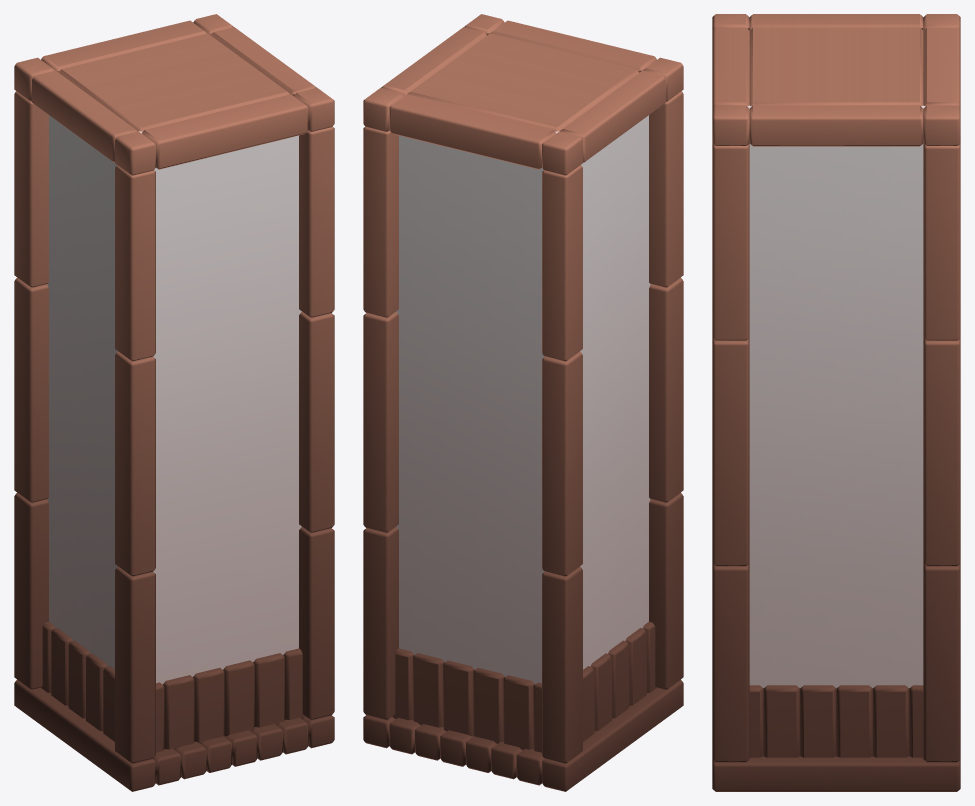
Rendered from SM_Wood_Body_04.fbx.
The picture shows the model from 3 angles, left to right: view 1: azimuth 30°, elevation 25°; view 2: azimuth 150°, elevation 25°; view 3: azimuth 270°, elevation 25°; orthographic projection. The views are drawn at different scales.
Visible parts, largest first — view 1: SM_Wood_Body_04; view 2: SM_Wood_Body_04; view 3: SM_Wood_Body_04.
Part boxes in pixels (x1,y1,x2,y2): SM_Wood_Body_04: [14, 14, 334, 791]; SM_Wood_Body_04: [363, 14, 683, 791]; SM_Wood_Body_04: [712, 14, 960, 791].
Size of the model in its own units: 0.9995 by 3 by 0.9995.
